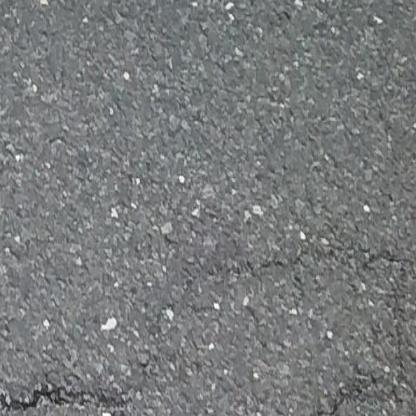Cracks: (201, 242, 416, 416), (0, 386, 151, 416)
